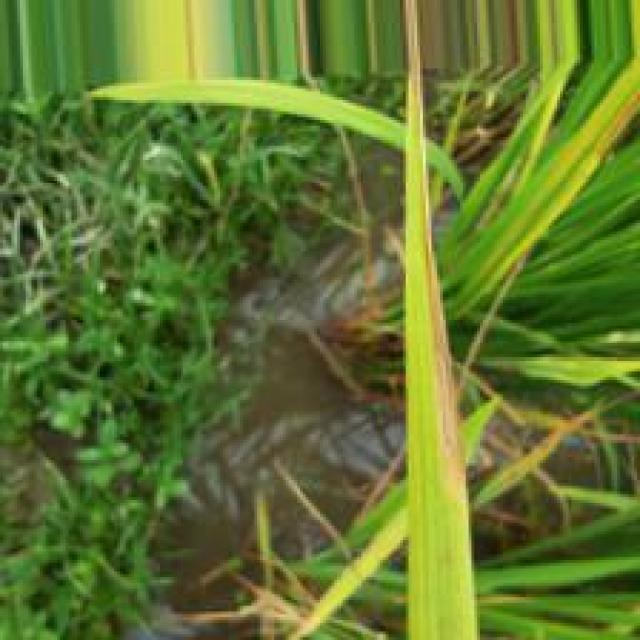Leaf_Scald: (419, 183, 466, 502)
